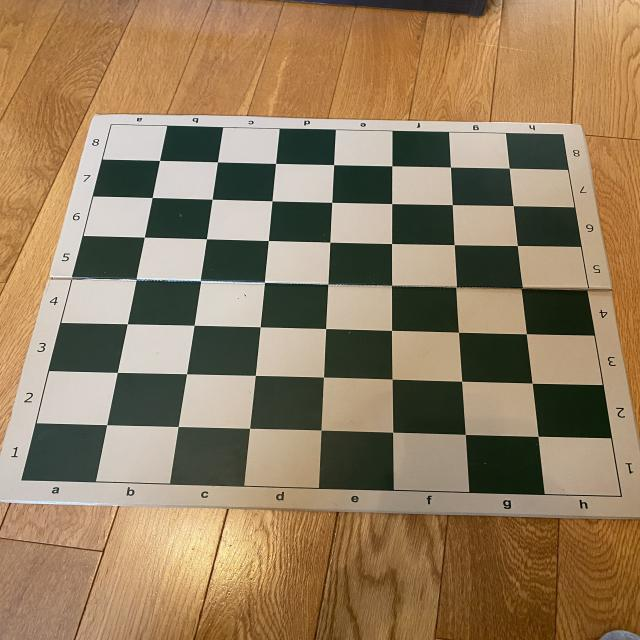Chessboard-Corners: (610, 489, 633, 502), (9, 475, 30, 486), (103, 121, 123, 132), (556, 132, 570, 142)
